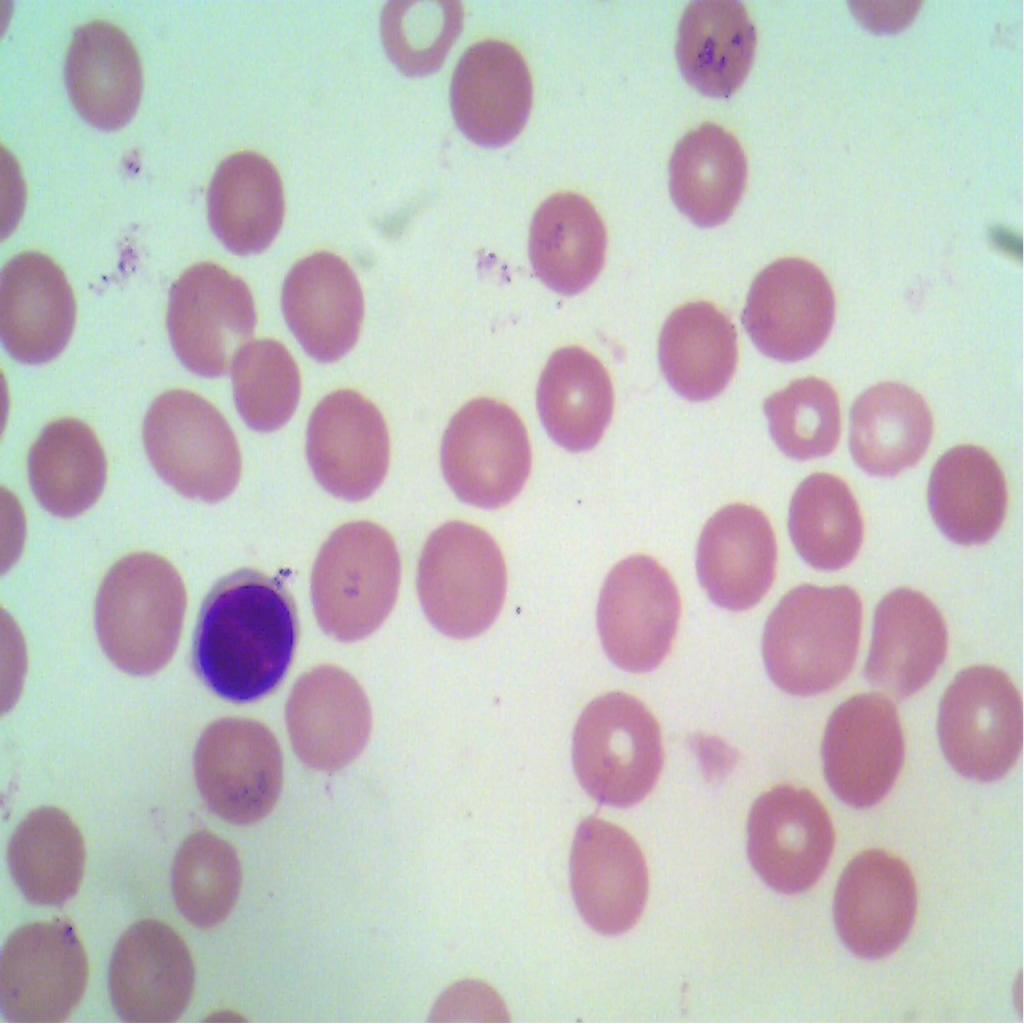Eritrosit: (410, 514, 513, 657), (553, 688, 669, 809), (758, 578, 866, 707), (135, 376, 243, 504), (101, 539, 191, 687), (58, 7, 153, 144), (28, 394, 116, 536), (194, 694, 283, 832), (435, 391, 534, 514), (928, 657, 1023, 784), (696, 487, 784, 624), (829, 844, 921, 975), (650, 287, 744, 415), (744, 776, 838, 904), (563, 810, 658, 936), (166, 255, 264, 375), (203, 135, 291, 268), (309, 511, 399, 641), (594, 544, 690, 665), (284, 655, 378, 778), (0, 232, 79, 378), (739, 249, 833, 370), (838, 370, 938, 482), (308, 378, 394, 504), (819, 688, 906, 812), (104, 904, 194, 1023), (524, 340, 613, 459), (452, 35, 534, 161), (0, 915, 95, 1023), (668, 120, 753, 237), (273, 260, 363, 367), (929, 437, 1009, 557), (4, 798, 91, 908), (224, 332, 310, 440), (670, 0, 761, 101), (528, 188, 609, 298), (758, 372, 846, 472), (784, 456, 866, 561), (868, 586, 950, 690), (166, 829, 248, 932), (376, 0, 469, 89)
Limfosit: (178, 552, 304, 705)
